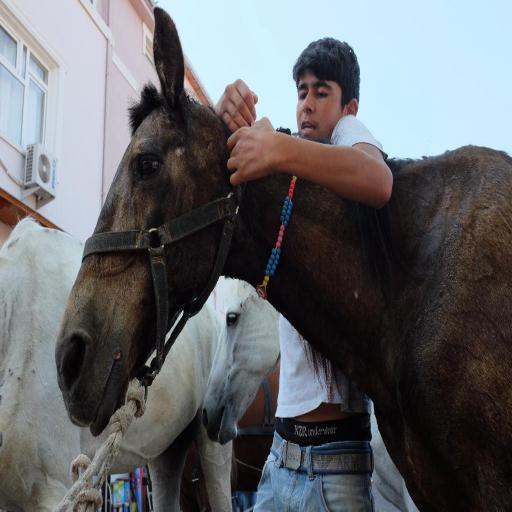Horse: (55, 6, 512, 512), (0, 212, 235, 511), (200, 274, 422, 511)
